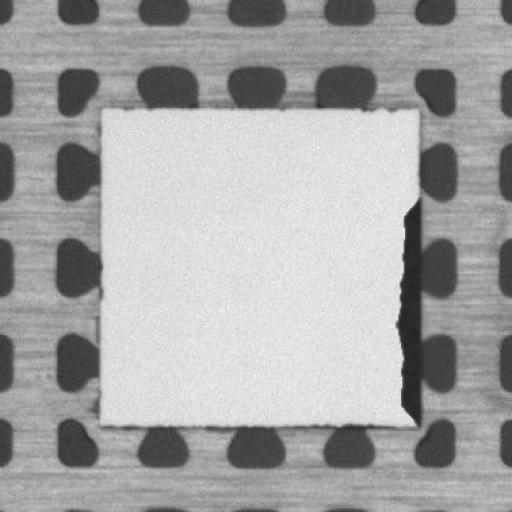DIE_BROKEN: (396, 196, 422, 424)
